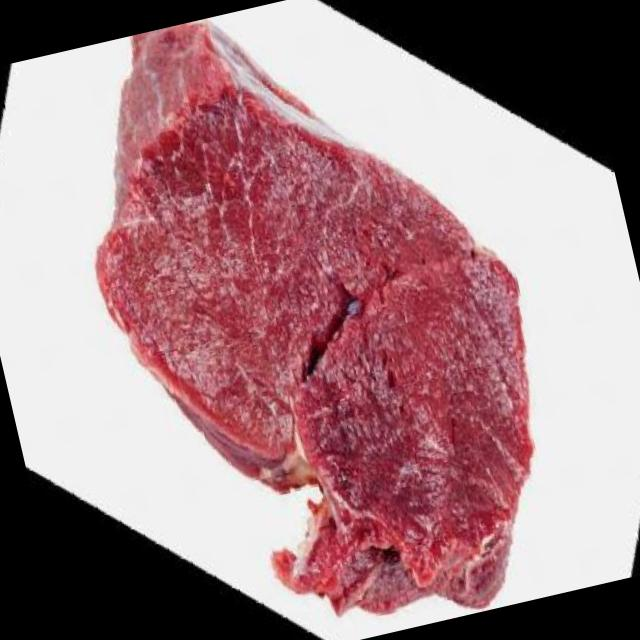beef: (42, 0, 586, 640)
